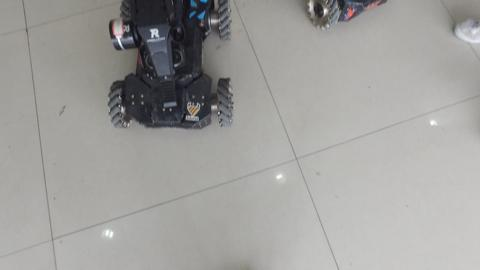chariot: (95, 1, 246, 136)
